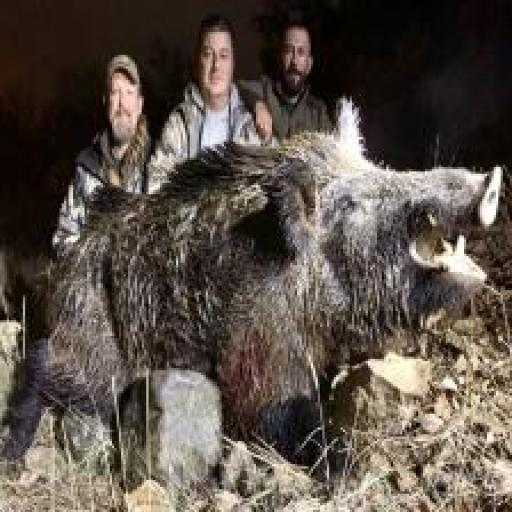Pig: (0, 96, 503, 466)
